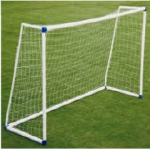goals: (5, 4, 147, 146)
